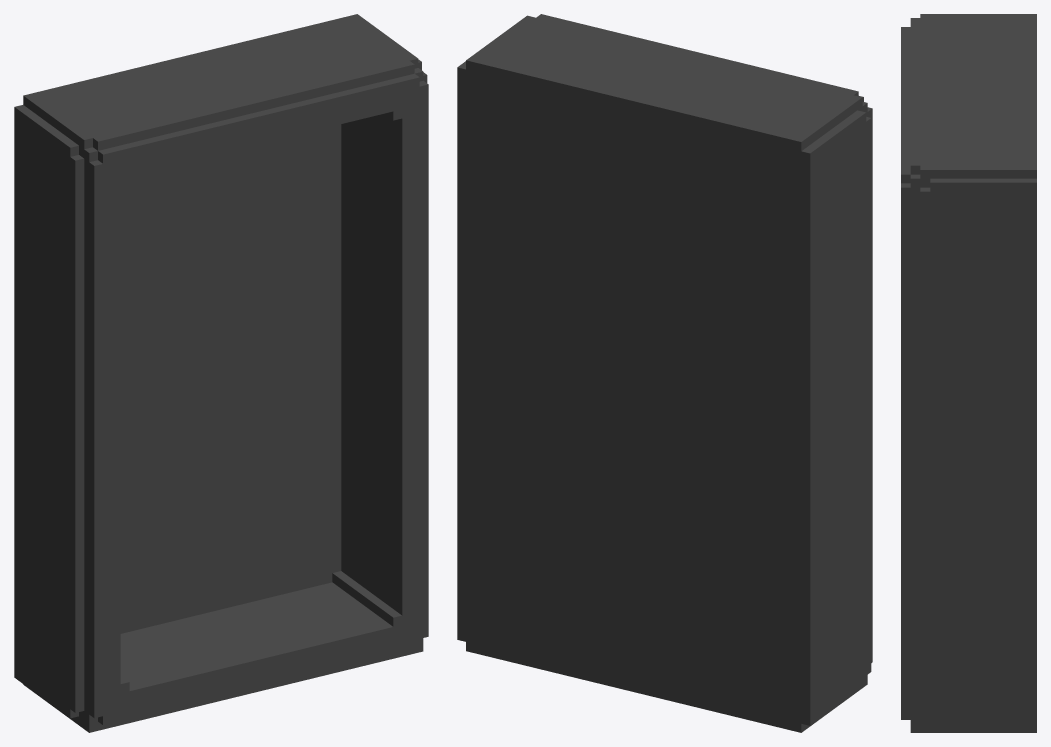
The picture shows the model from 3 angles, left to right: view 1: azimuth 30°, elevation 25°; view 2: azimuth 150°, elevation 25°; view 3: azimuth 270°, elevation 25°; orthographic projection. The views are drawn at different scales.
Visible parts, largest first — view 1: box_21; view 2: box_21; view 3: box_21.
Part boxes in pixels (x1,y1,x2,y2): box_21: (14, 14, 428, 732); box_21: (457, 14, 872, 732); box_21: (901, 14, 1036, 732).
Bounding box in the file's own units: 8 × 12.8 × 2.8.
Materials: 1 (1 with a texture image).
